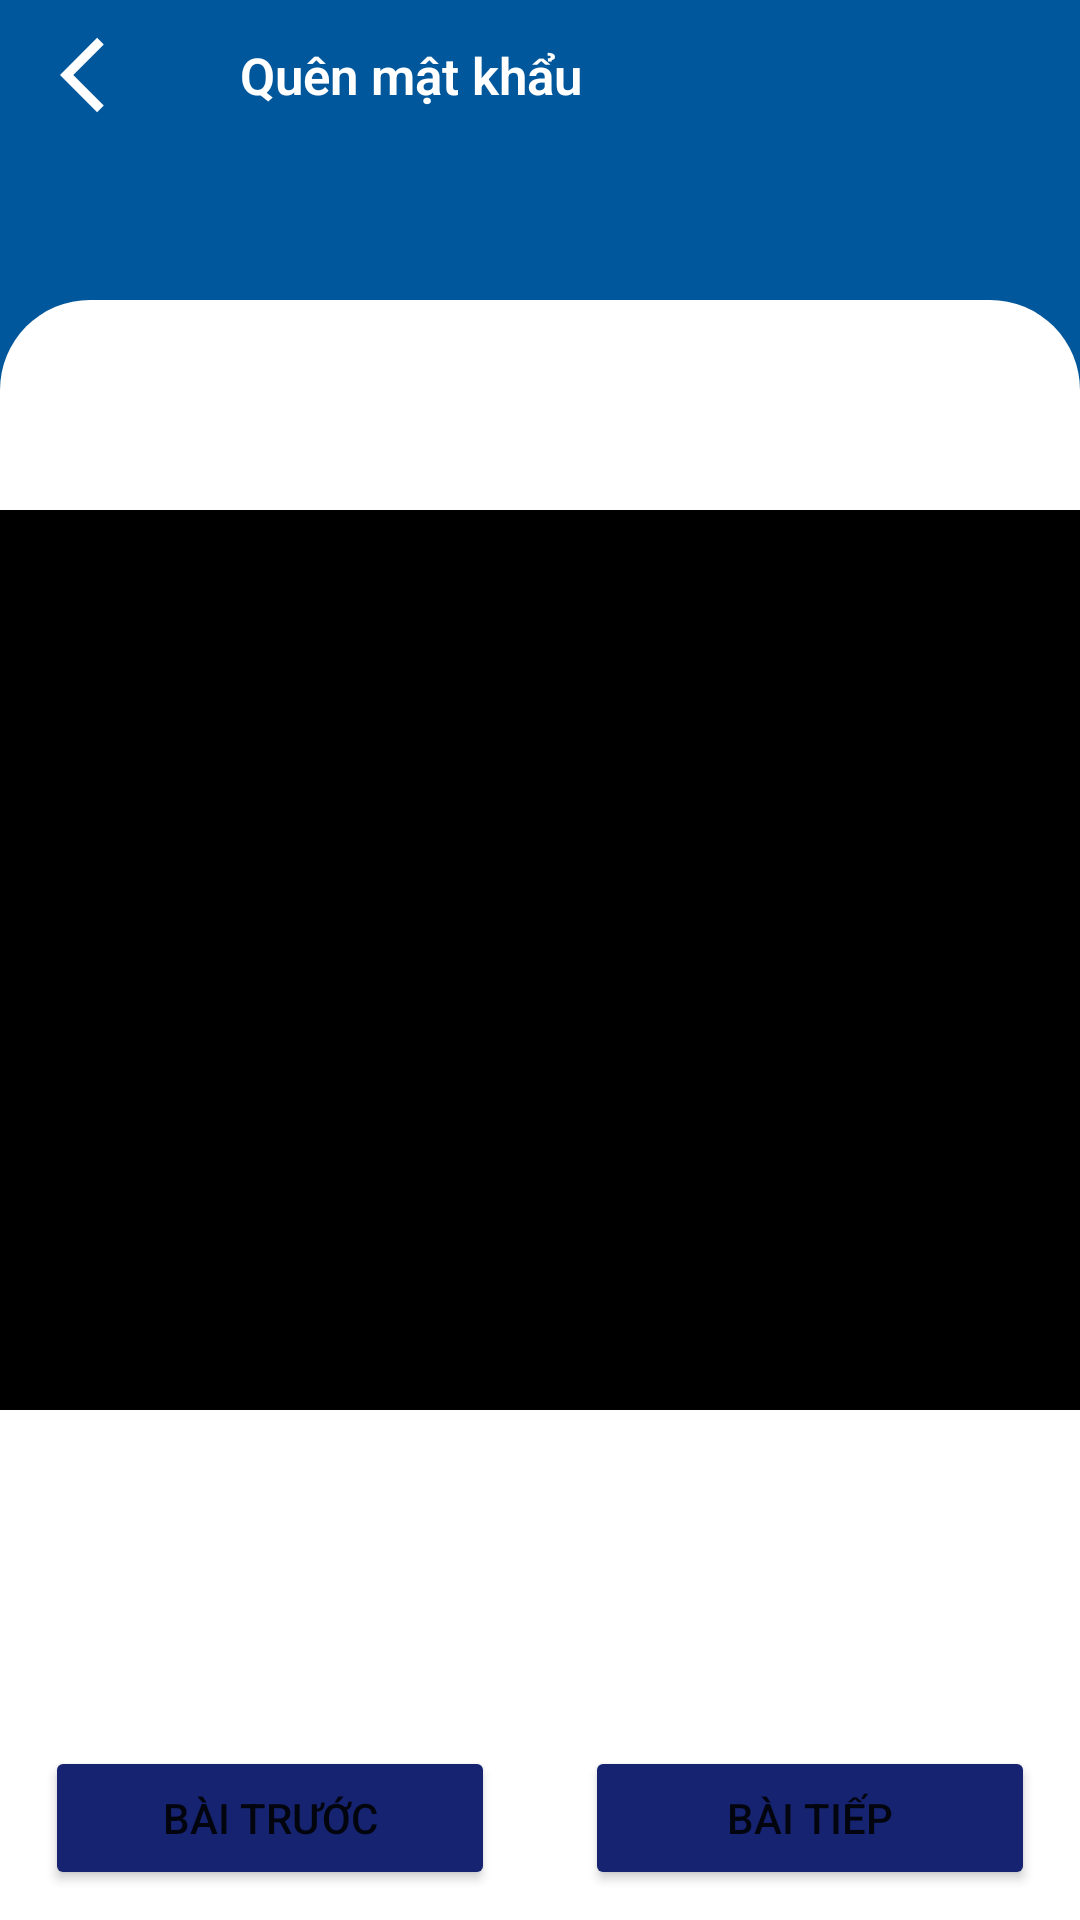

Icons on this 1080x1920 Android screen, each with its box as (x1, y1, x2, y2):
back: (60, 38, 104, 112)
